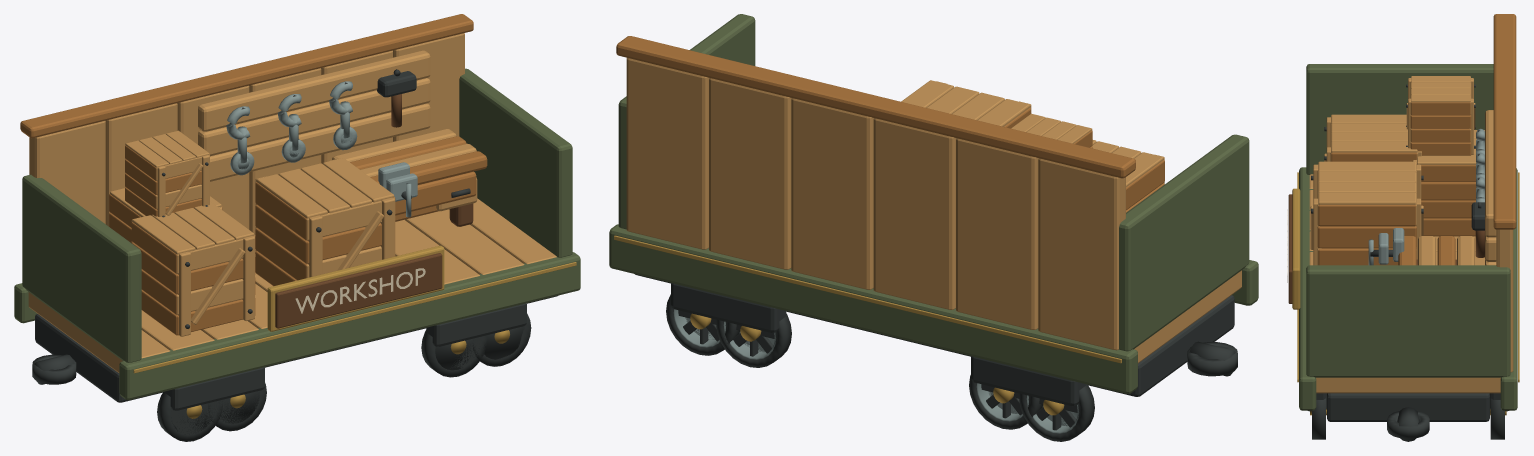
File: 04_workshop_carriage.glb
3 renders of one model, left to right at view 1: azimuth 30°, elevation 25°; view 2: azimuth 150°, elevation 25°; view 3: azimuth 270°, elevation 25°, orthographic. The views are drawn at different scales.
Visible parts, largest first — view 1: Olive side sill.004, Workshop end, Workshop end.001, Back wall trim, Rack backboard.002, Wood nameplate.002, Workshop backboard, Rack backboard.001, Rack backboard, Workshop backboard.005, Floorboard.028, Workshop backboard.001 (+57 smaller); view 2: Olive side sill.005, Workshop end, Workshop backboard.002, Workshop backboard.005, Workshop backboard.003, Workshop backboard.004, Workshop backboard.001, Workshop backboard, Back wall trim, Underframe.002, Workshop end.001, Bogie housing.011 (+14 smaller); view 3: Workshop end.001, Workshop end, Back wall trim, Underframe.002, Floorboard.029, Olive side sill.004, Crate side plank.031, Crate side plank.030, Olive side sill.005, Crate lid.015, Rack backboard.002, Workshop backboard.005 (+39 smaller).
Boxes of the visible parts, box(x1,y1,x2,y2) form: Olive side sill.004: box(119, 252, 580, 400); Workshop end: box(22, 174, 141, 362); Workshop end.001: box(459, 68, 572, 257); Back wall trim: box(20, 14, 473, 138); Rack backboard.002: box(198, 50, 430, 131); Wood nameplate.002: box(275, 253, 442, 328); Workshop backboard: box(29, 121, 105, 223); Rack backboard.001: box(198, 78, 430, 156); Rack backboard: box(210, 103, 430, 181); Workshop backboard.005: box(393, 33, 464, 141); Floorboard.028: box(405, 209, 524, 274); Workshop backboard.001: box(105, 103, 177, 226); Olive side sill.005: box(609, 224, 1137, 393); Workshop end: box(1119, 134, 1249, 351); Workshop backboard.002: box(873, 118, 956, 309); Workshop backboard.005: box(626, 58, 708, 249); Workshop backboard.003: box(791, 98, 873, 289); Workshop backboard.004: box(709, 78, 791, 269); Workshop backboard.001: box(956, 138, 1038, 329); Workshop backboard: box(1038, 158, 1125, 350); Back wall trim: box(616, 36, 1135, 178); Underframe.002: box(635, 274, 1234, 396); Workshop end.001: box(618, 14, 755, 229); Bogie housing.011: box(671, 283, 786, 332); Workshop end.001: box(1306, 265, 1510, 377); Workshop end: box(1306, 64, 1493, 174); Back wall trim: box(1493, 14, 1516, 229); Underframe.002: box(1327, 393, 1489, 421); Floorboard.029: box(1316, 377, 1500, 393); Olive side sill.004: box(1299, 167, 1316, 410); Crate side plank.031: box(1318, 205, 1415, 226); Crate side plank.030: box(1318, 226, 1415, 248); Olive side sill.005: box(1500, 168, 1517, 410); Crate lid.015: box(1318, 192, 1416, 204); Rack backboard.002: box(1485, 110, 1496, 237); Workshop backboard.005: box(1496, 229, 1513, 372).
Bounding box in the file's own units: 4.09 × 1.93 × 1.64.
